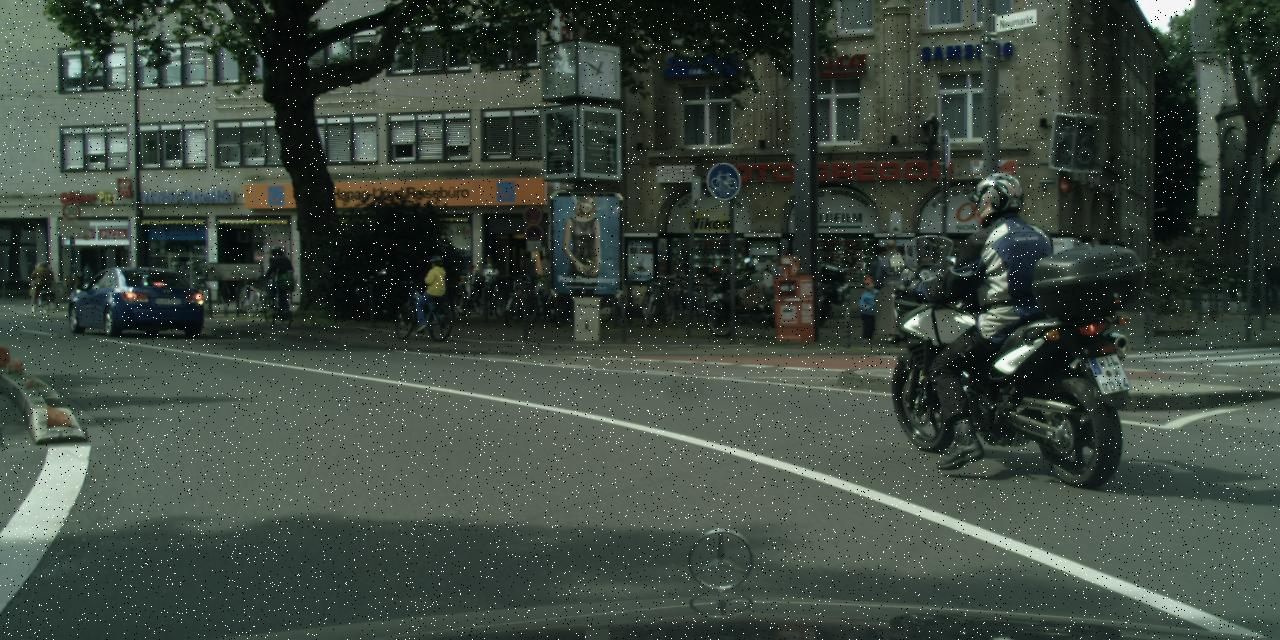ped: (946, 170, 1060, 450), (416, 255, 445, 327), (855, 276, 881, 340), (264, 246, 290, 310), (870, 240, 901, 289), (540, 250, 562, 306), (466, 252, 501, 282), (33, 262, 51, 306), (761, 258, 781, 284), (884, 335, 904, 345)
